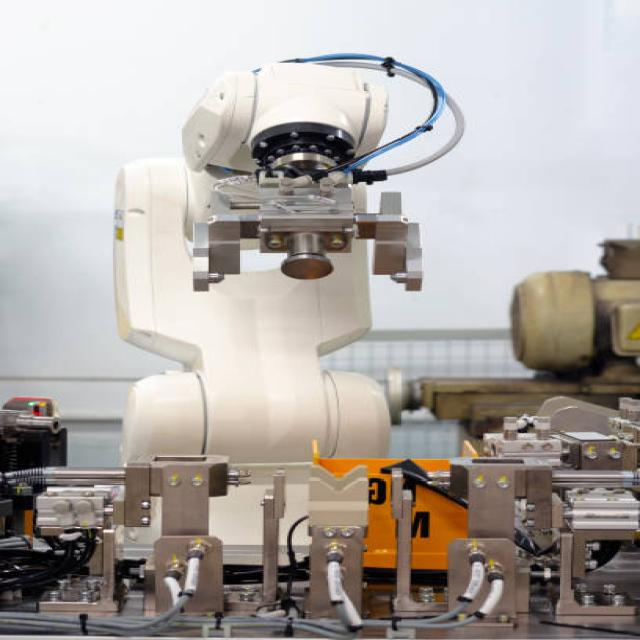Robotic-arm: (92, 36, 446, 466)
